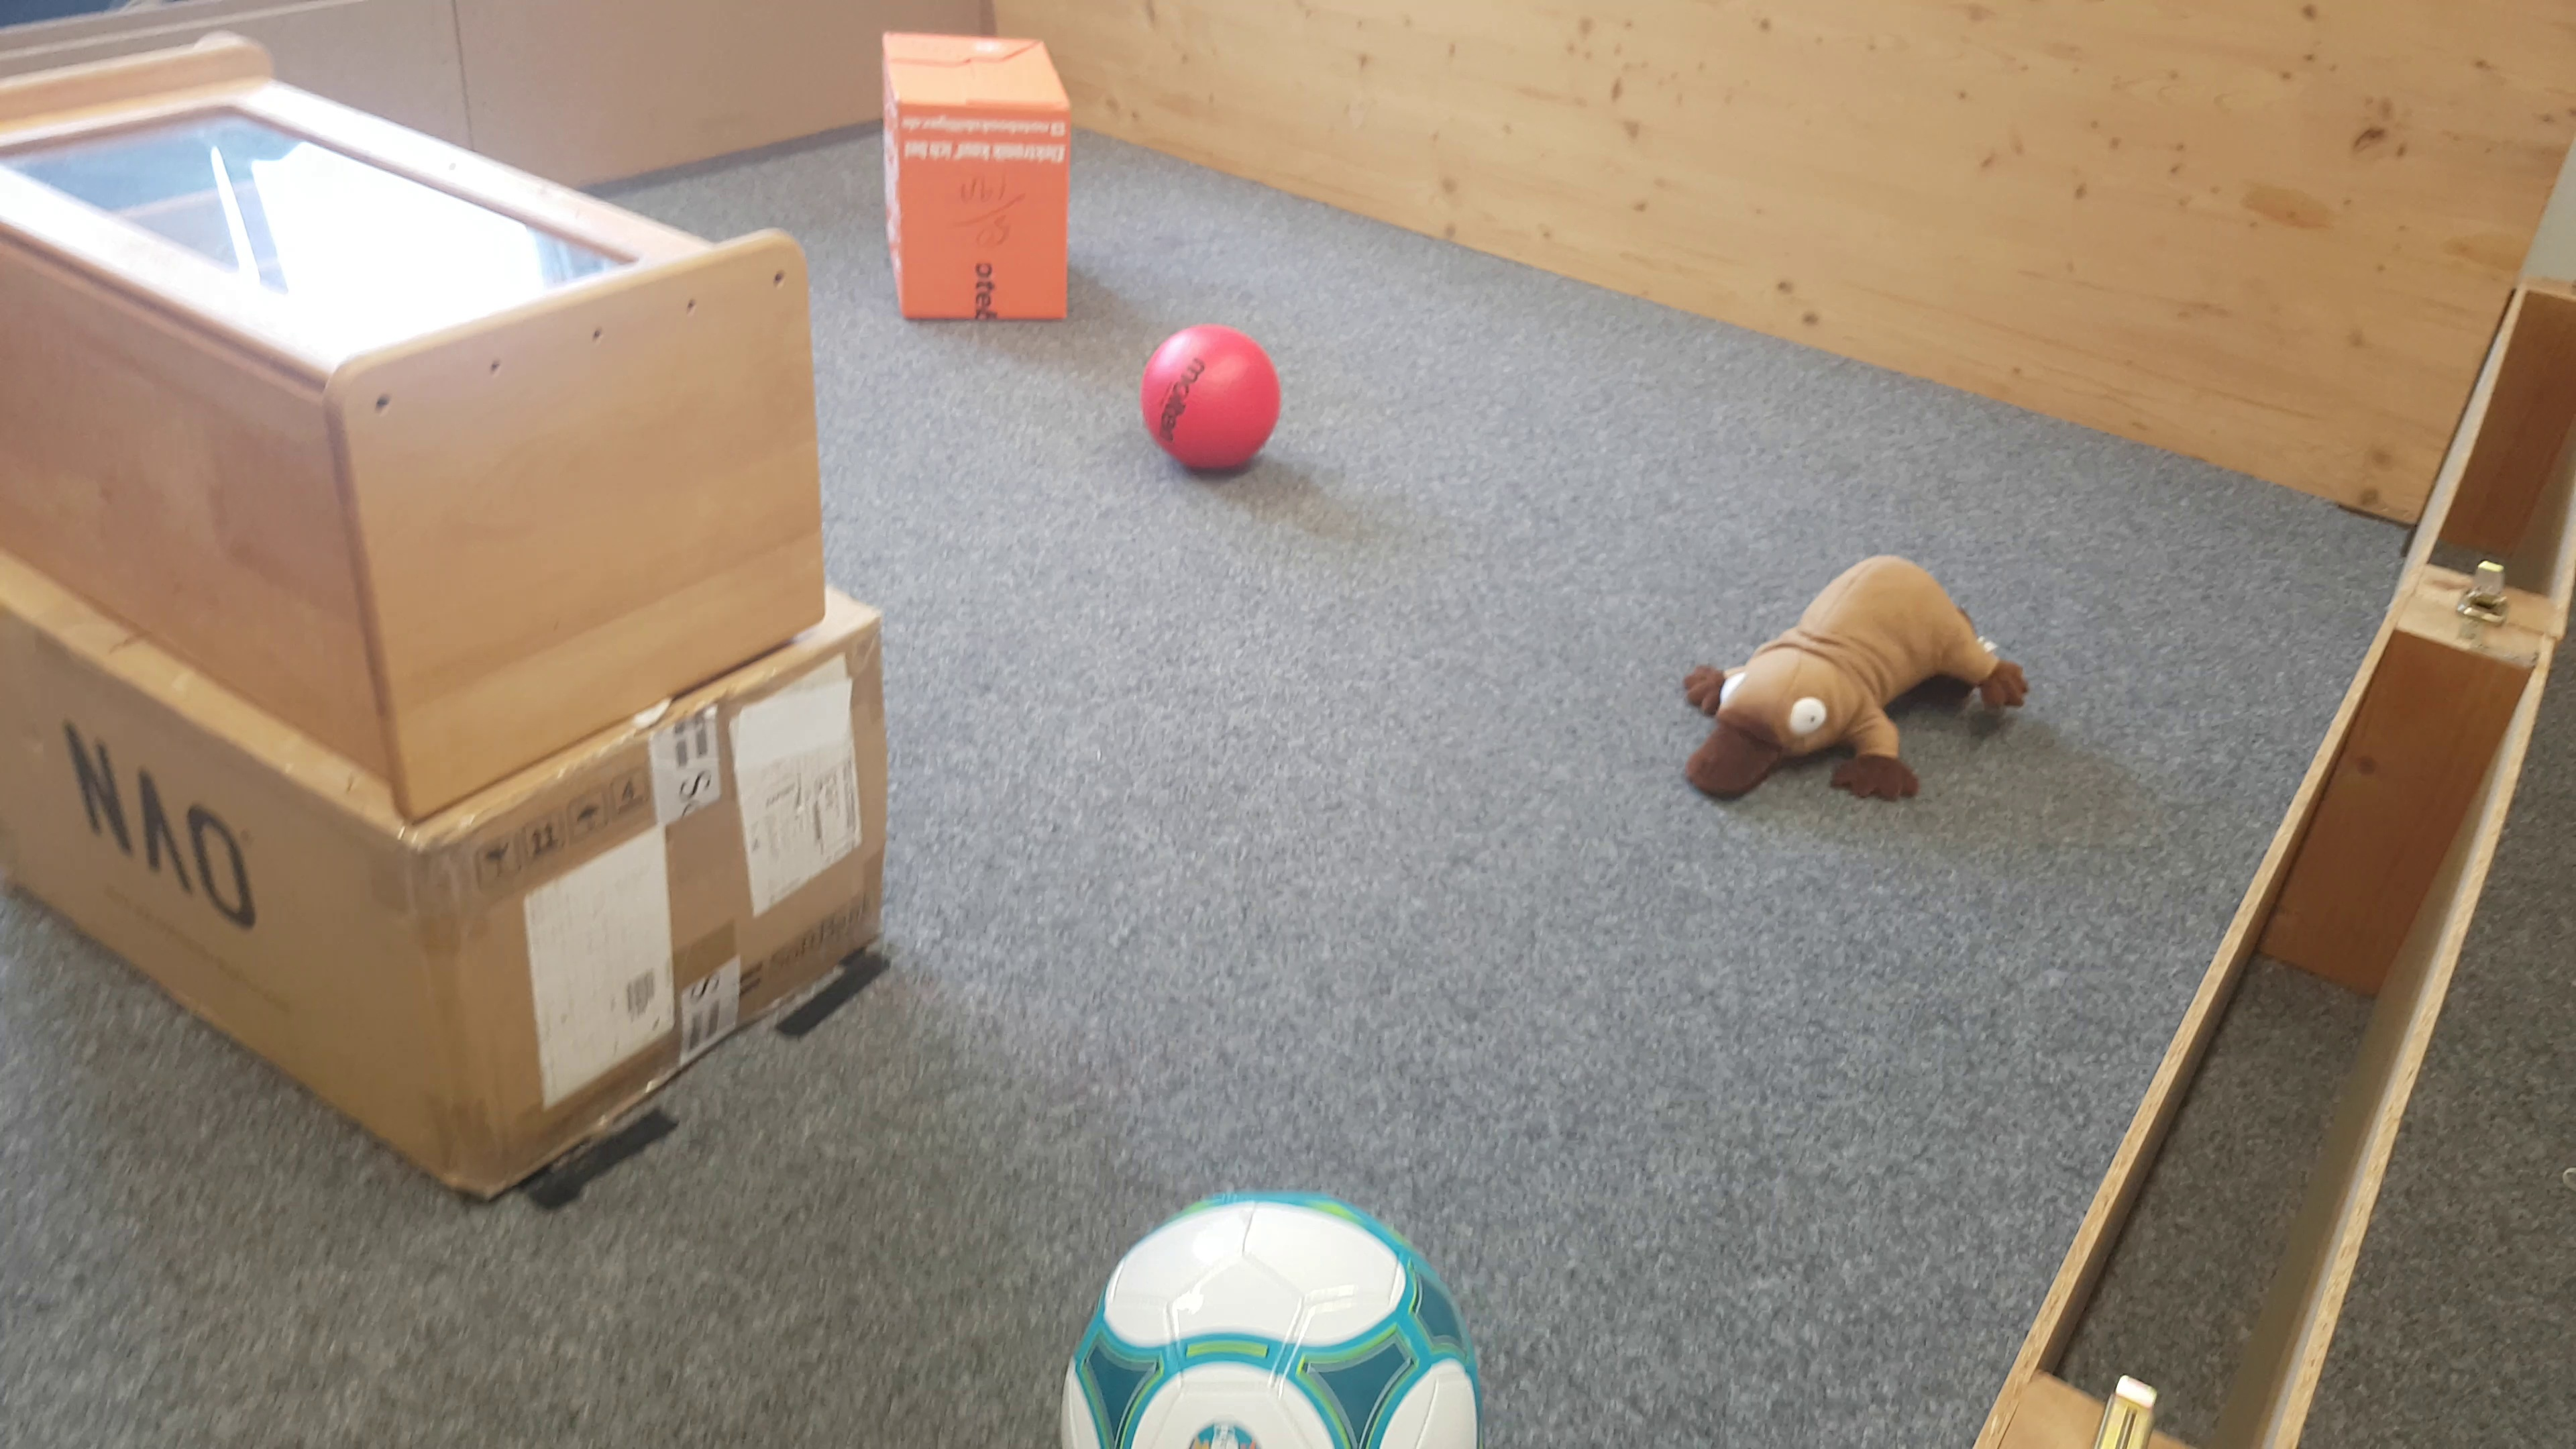grasp: (1683, 548, 2038, 817)
kick: (1060, 1191, 1490, 1449), (1143, 326, 1283, 483)
push: (878, 28, 1081, 331)
